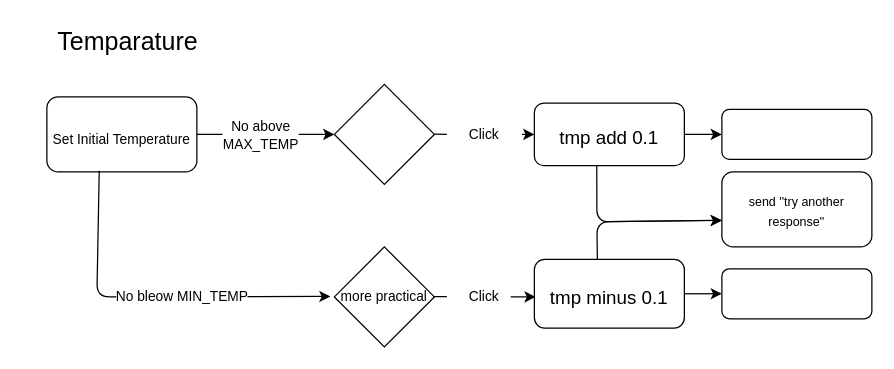
The diagram is 894 pixels wide and 369 high, and some of its shapes have lost their labels. The box of each missing label's shape, as (x1, y1, x2, y2) in pixels:
more creative: (333, 83, 434, 184)
show "try another cautious response": (721, 108, 872, 159)
show "try another diverse response": (721, 268, 872, 319)
